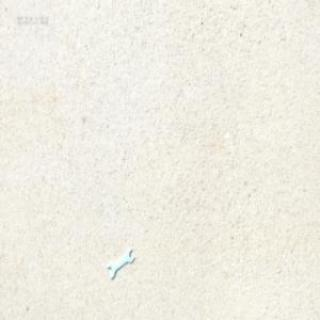Wrenchtrack_idkeyframe: (107, 248, 133, 279)
